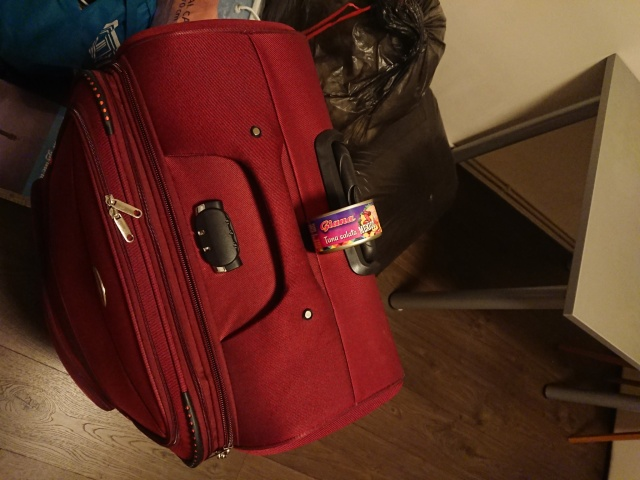Giana Tuna Salad Mexico 185g: (306, 196, 385, 257)
